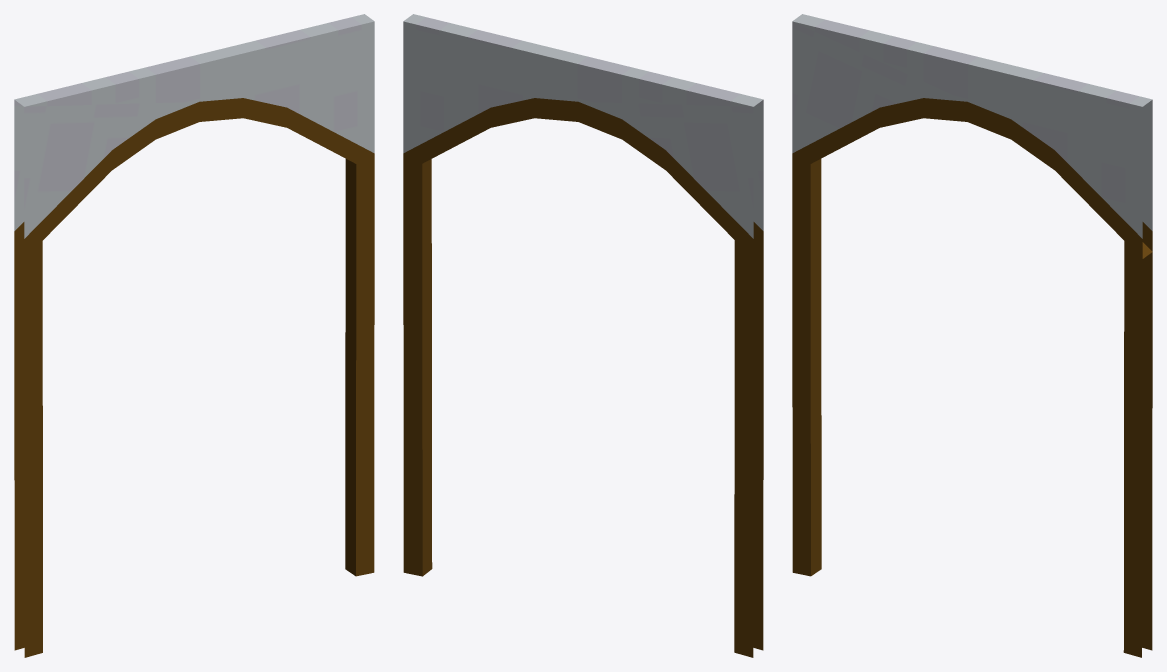
File: castle_door.glb
3 renders of one model, left to right at view 1: azimuth 30°, elevation 25°; view 2: azimuth 150°, elevation 25°; view 3: azimuth 330°, elevation 25°, orthographic.
Parts seen in each view (by area): view 1: castle_door; view 2: castle_door; view 3: castle_door.
Boxes of the visible parts, x1,y1,x2,y2 form: castle_door: (14,14,374,657); castle_door: (403,14,763,657); castle_door: (792,14,1152,657).
Bounding box in the file's own units: 2 × 3.01 × 0.1.
Materials: 2 (1 with a texture image).
